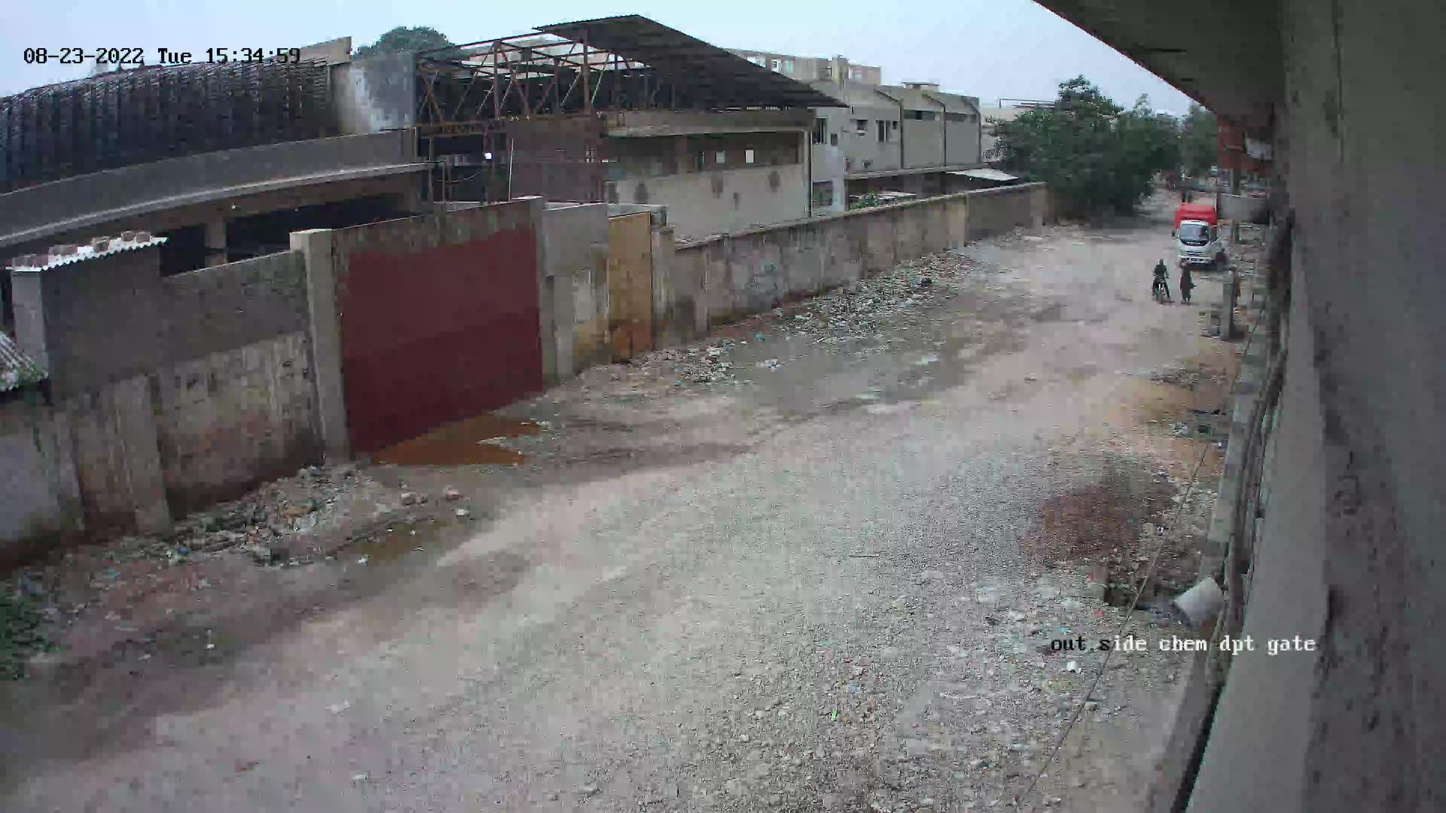person: (1148, 254, 1173, 300), (1180, 259, 1198, 312)
